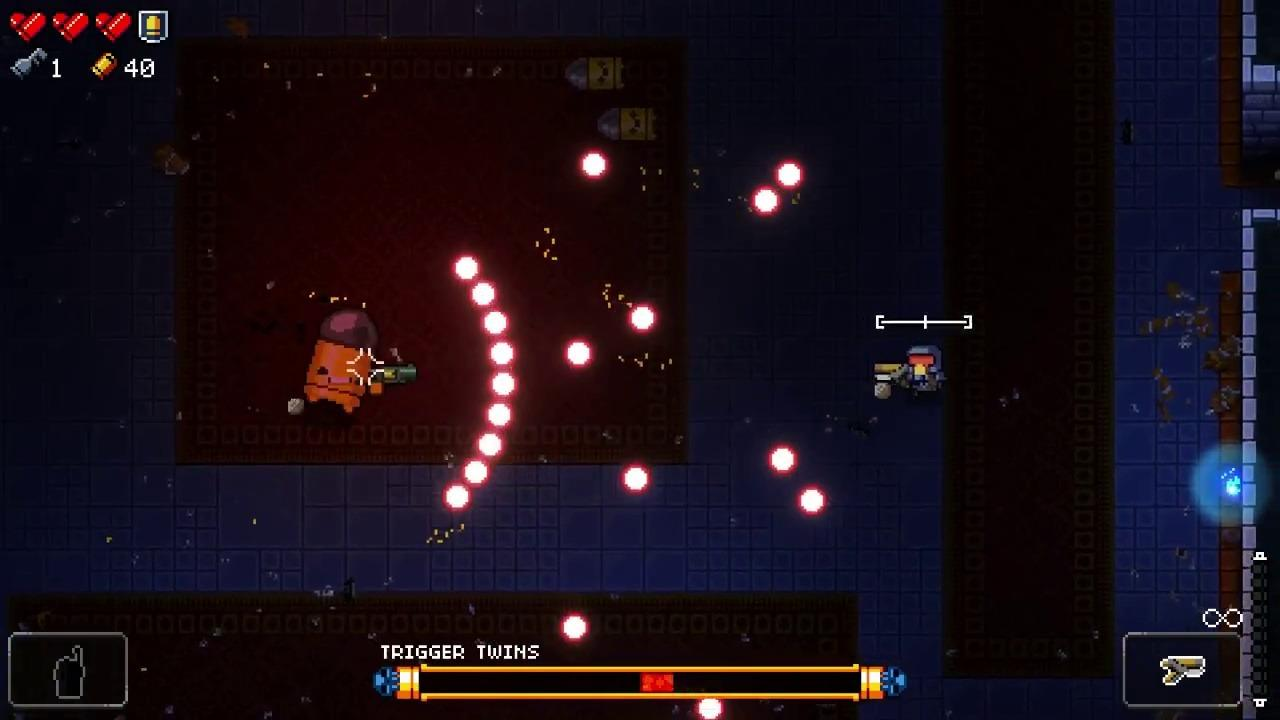boss_smiley: (305, 310, 378, 415)
bullet: (796, 484, 828, 518), (451, 253, 482, 285), (620, 464, 650, 497), (559, 612, 589, 643), (769, 445, 799, 476), (461, 459, 492, 488), (476, 429, 505, 459), (578, 150, 607, 180), (441, 483, 472, 511), (486, 399, 513, 431), (491, 367, 517, 400), (488, 340, 517, 369), (752, 187, 781, 216), (561, 341, 593, 367), (630, 303, 657, 333), (774, 161, 801, 188), (483, 311, 511, 337), (472, 282, 498, 309), (695, 697, 725, 720)
dead_bullet_kin: (599, 108, 658, 142), (568, 57, 623, 90)
player: (906, 345, 947, 394)
